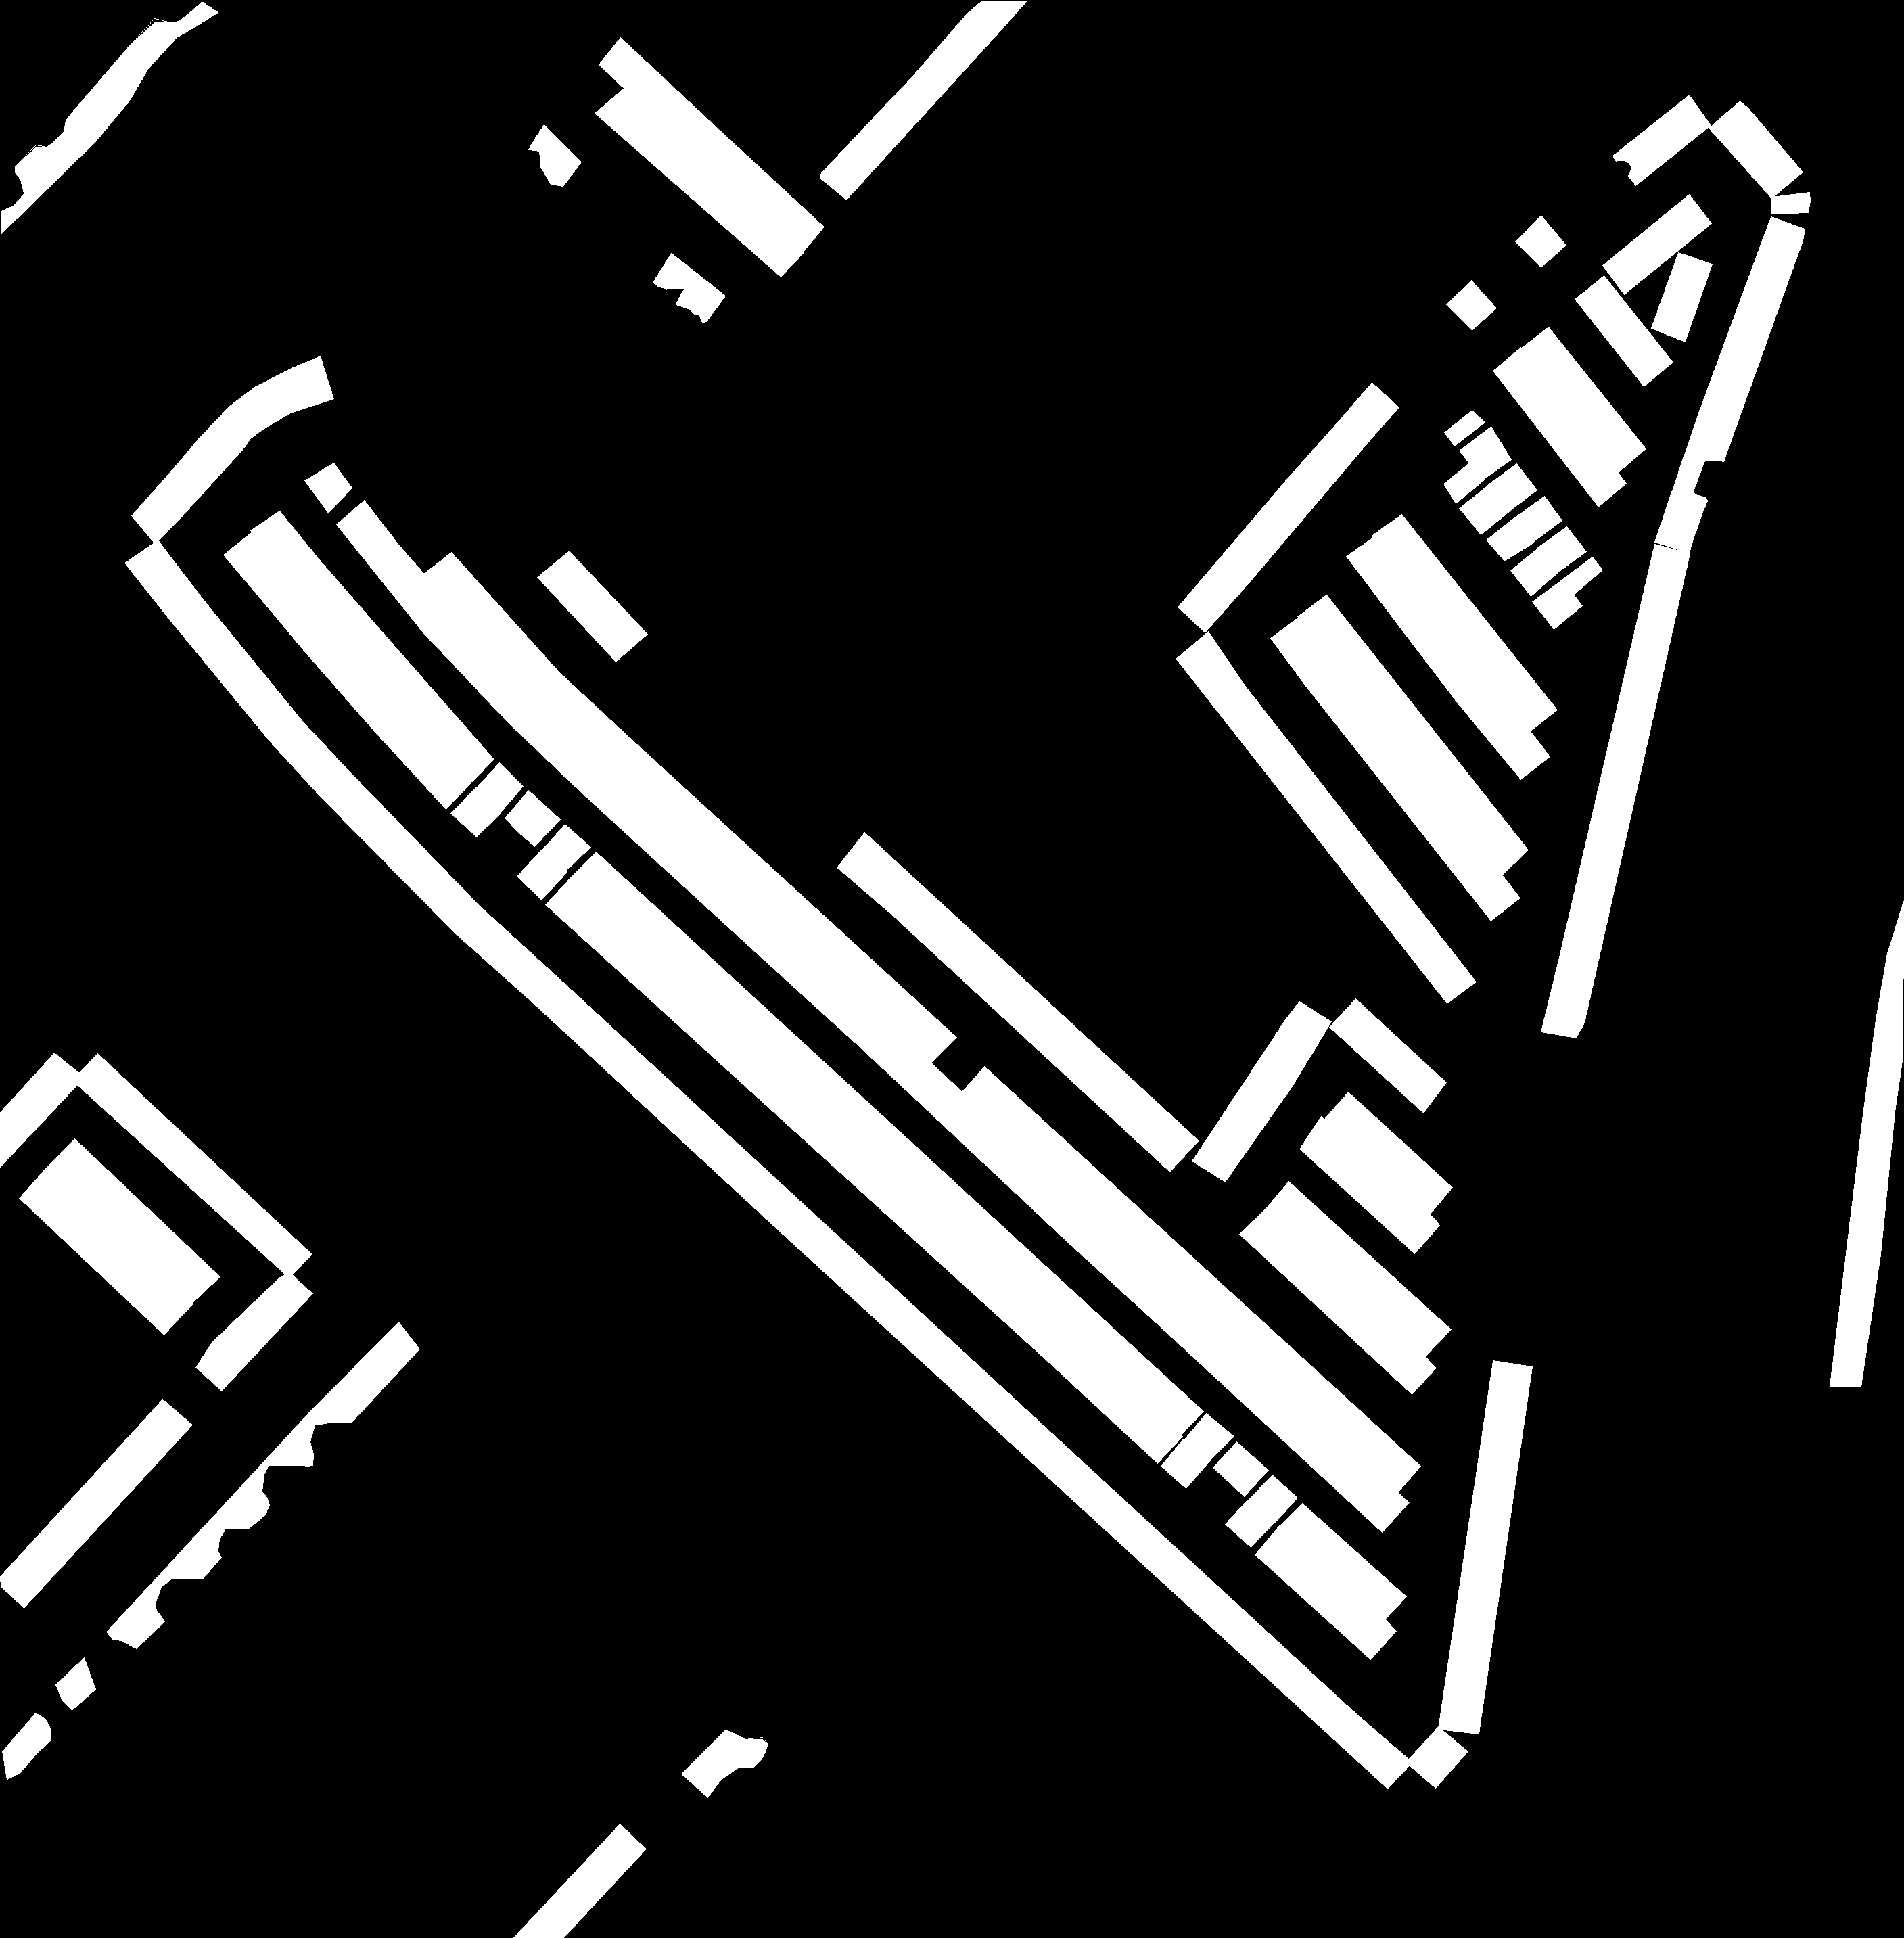parkingspot: (124, 539, 1412, 1788), (337, 501, 1409, 1532), (546, 877, 1182, 1464), (568, 851, 1203, 1436), (420, 551, 957, 1064), (961, 1066, 1421, 1495), (837, 832, 1198, 1172), (1177, 631, 1475, 1003), (106, 1322, 420, 1648), (1271, 616, 1520, 921), (1541, 544, 1690, 1038), (223, 532, 471, 809), (251, 511, 493, 783), (1297, 595, 1527, 876), (1177, 382, 1398, 633), (75, 1054, 312, 1279), (0, 2, 218, 234), (1655, 216, 1805, 553), (1346, 536, 1550, 780), (598, 37, 823, 251), (819, 0, 1027, 199), (1370, 515, 1557, 733), (0, 1399, 192, 1608), (595, 87, 804, 277), (131, 356, 333, 544), (1240, 1209, 1437, 1394), (1829, 902, 1904, 1387), (1438, 1361, 1533, 1734), (1262, 1181, 1451, 1357), (19, 1167, 194, 1334), (45, 1139, 220, 1305), (1193, 1001, 1330, 1181), (1493, 347, 1627, 506), (1301, 1116, 1438, 1254), (1255, 1525, 1397, 1659), (1520, 326, 1646, 473), (1322, 1092, 1452, 1216), (513, 1823, 645, 1938), (1276, 1504, 1405, 1621), (195, 1272, 312, 1390), (1329, 998, 1445, 1113), (537, 551, 647, 661), (1602, 194, 1710, 295), (1574, 276, 1672, 386), (0, 1052, 84, 1167), (1709, 101, 1803, 199), (1613, 94, 1710, 185), (682, 1730, 767, 1797), (1651, 253, 1712, 342), (652, 253, 725, 323), (1405, 1727, 1468, 1788), (528, 124, 581, 187), (2, 1713, 51, 1779), (504, 790, 560, 846), (1214, 1441, 1268, 1497), (1459, 426, 1512, 480), (1515, 215, 1566, 267), (450, 787, 500, 837), (516, 850, 567, 900), (474, 762, 523, 815), (1182, 1413, 1234, 1462), (1247, 1474, 1297, 1523), (1445, 281, 1496, 330), (1486, 464, 1536, 513), (1533, 579, 1581, 630), (542, 823, 591, 872), (1161, 1439, 1210, 1488), (1459, 485, 1508, 534), (305, 462, 352, 513), (1512, 495, 1562, 543), (1226, 1500, 1275, 1547), (1510, 548, 1557, 597), (1536, 527, 1587, 572), (56, 1657, 96, 1709), (1486, 518, 1533, 560), (1444, 462, 1484, 504), (1561, 556, 1602, 595), (1444, 410, 1484, 447), (1771, 192, 1810, 215)
